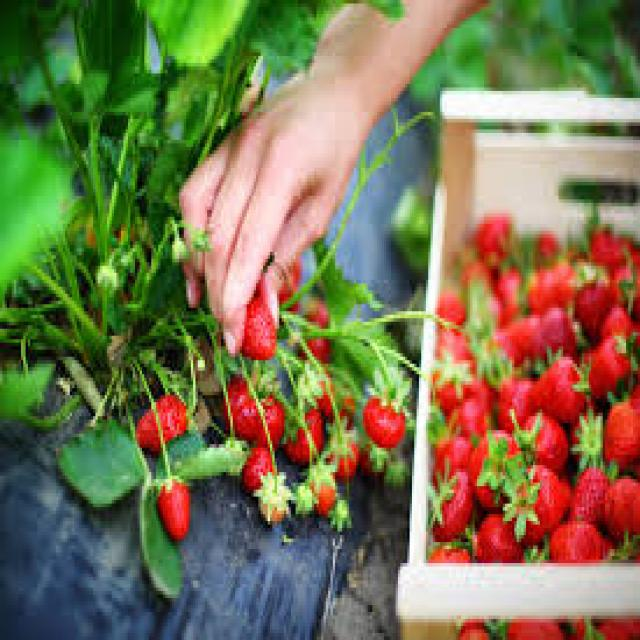organic waste: (0, 0, 133, 409), (472, 0, 635, 87), (137, 0, 305, 63), (130, 136, 180, 343), (54, 416, 140, 507), (137, 0, 251, 66), (132, 70, 232, 133), (218, 353, 282, 448), (498, 455, 566, 542), (314, 234, 380, 318), (138, 468, 180, 594), (516, 350, 588, 423), (335, 314, 405, 384), (440, 322, 507, 392), (153, 423, 240, 476), (356, 360, 407, 448), (466, 423, 516, 511), (391, 171, 426, 280), (508, 406, 564, 472), (133, 388, 186, 455), (279, 388, 321, 469), (428, 462, 472, 535), (588, 328, 638, 392), (456, 255, 496, 329), (600, 392, 638, 468), (356, 427, 403, 486), (470, 504, 517, 560), (524, 256, 574, 304), (154, 472, 188, 542), (324, 412, 358, 482), (602, 469, 638, 535), (235, 290, 272, 353), (572, 266, 610, 325), (570, 462, 610, 518), (568, 402, 600, 472), (547, 518, 603, 556), (475, 210, 512, 262), (433, 350, 465, 409), (240, 441, 274, 496), (496, 259, 526, 318), (293, 304, 328, 353), (538, 300, 572, 350), (256, 465, 286, 521), (305, 455, 333, 514), (433, 430, 468, 476), (449, 392, 484, 437), (498, 371, 531, 416), (612, 255, 638, 308), (596, 297, 638, 329), (507, 311, 540, 350), (328, 374, 352, 427), (500, 616, 561, 636), (521, 231, 554, 266), (279, 255, 300, 308), (584, 616, 638, 636), (426, 538, 470, 560), (587, 224, 612, 259), (437, 290, 461, 326), (326, 493, 349, 528), (291, 479, 314, 514), (607, 234, 638, 259), (494, 329, 514, 367), (454, 616, 489, 636)
